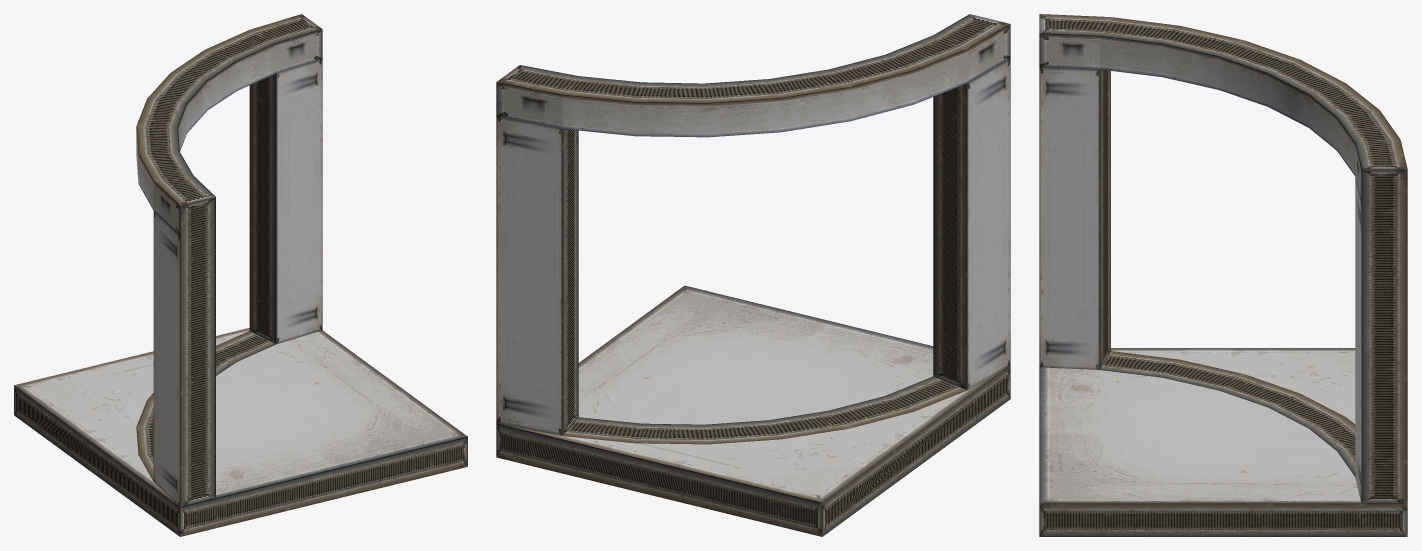
File: scifi_floor_portal_curve_small.FBX
3 renders of one model, left to right at view 1: azimuth 30°, elevation 25°; view 2: azimuth 150°, elevation 25°; view 3: azimuth 270°, elevation 25°, orthographic. The views are drawn at different scales.
Visible parts, largest first — view 1: Plane186; view 2: Plane186; view 3: Plane186.
Boxes of the visible parts, left/top/right/bottom form: Plane186: left=14, top=14, right=467, bottom=536; Plane186: left=496, top=14, right=1010, bottom=536; Plane186: left=1039, top=14, right=1407, bottom=536.
Bounding box in the file's own units: 254 × 279 × 254.
